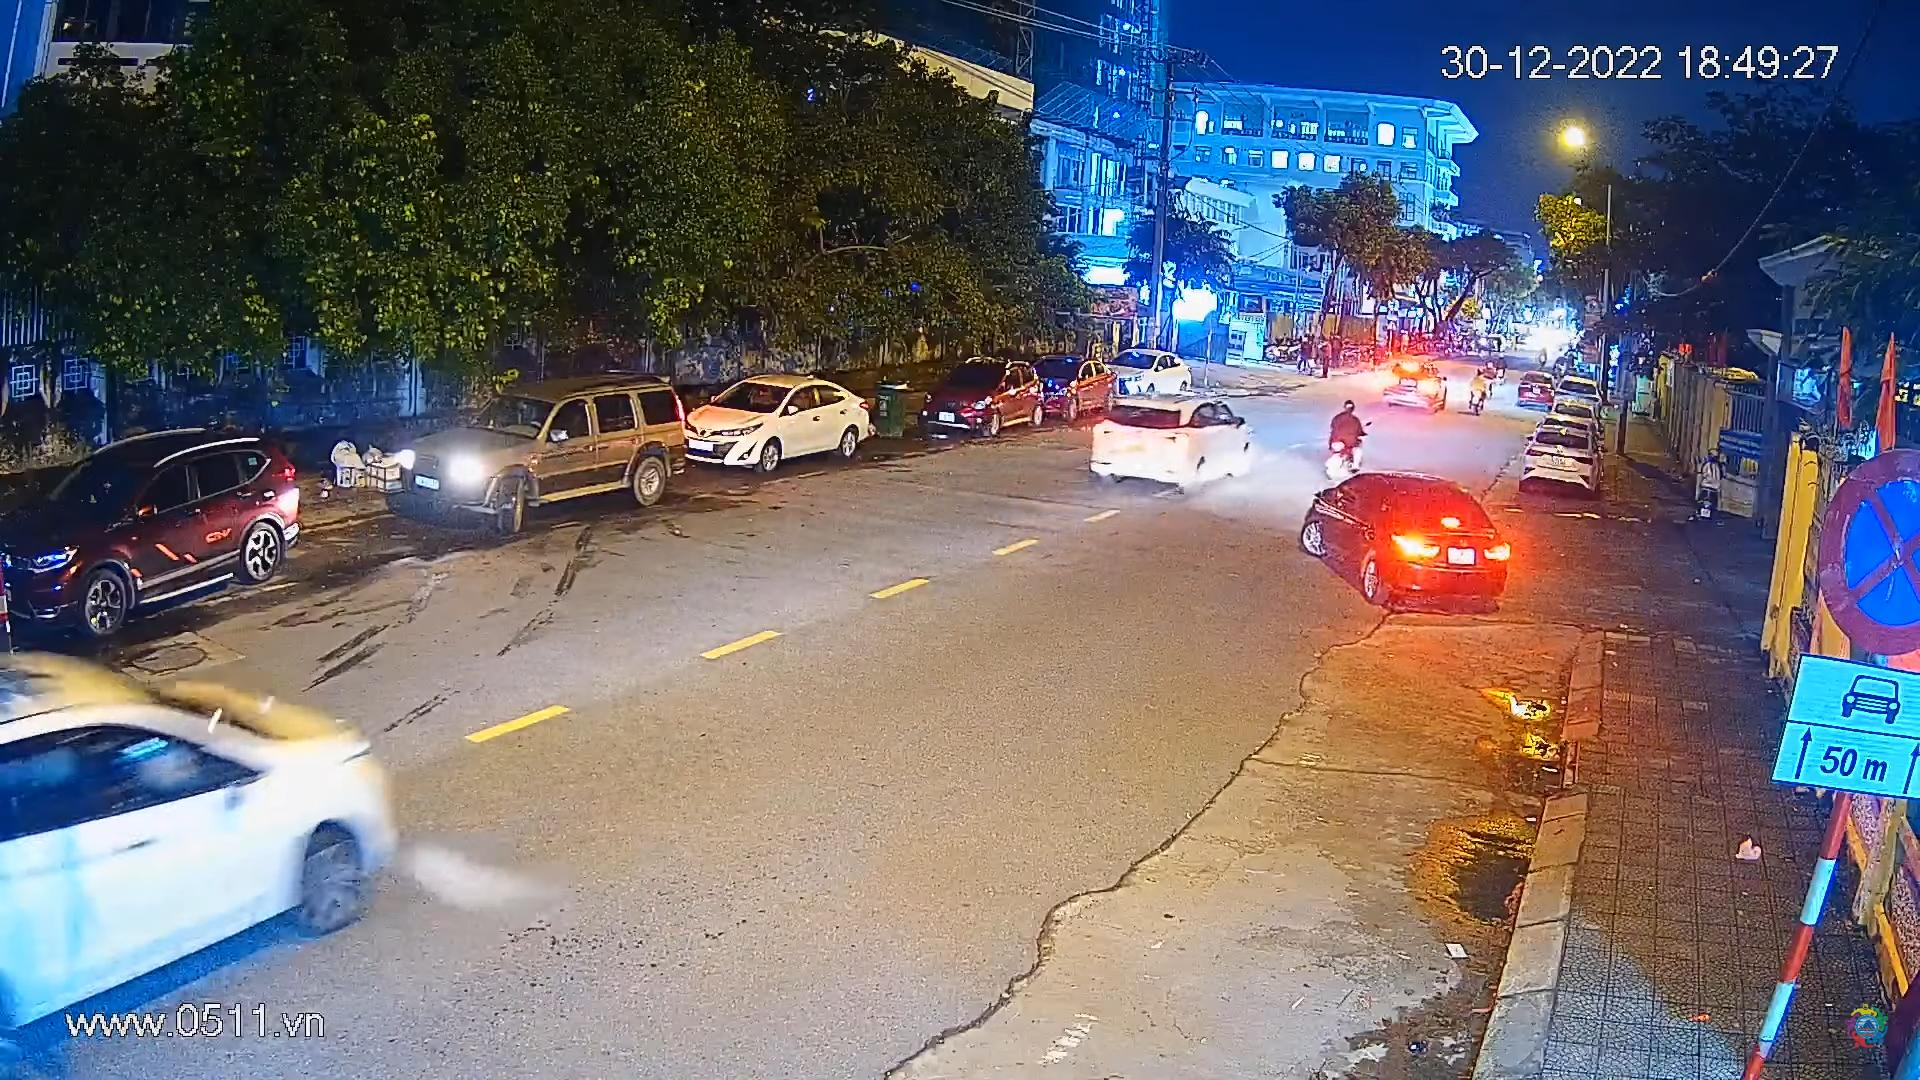car: (0, 642, 401, 1080), (0, 422, 309, 640), (401, 371, 686, 538), (1313, 469, 1513, 615), (694, 375, 876, 468), (1088, 397, 1253, 497), (906, 355, 1046, 440), (1035, 349, 1126, 427), (1520, 418, 1600, 505), (1105, 349, 1199, 410), (1516, 364, 1559, 417), (1552, 373, 1601, 414)
motorcycle: (1324, 396, 1375, 485)
